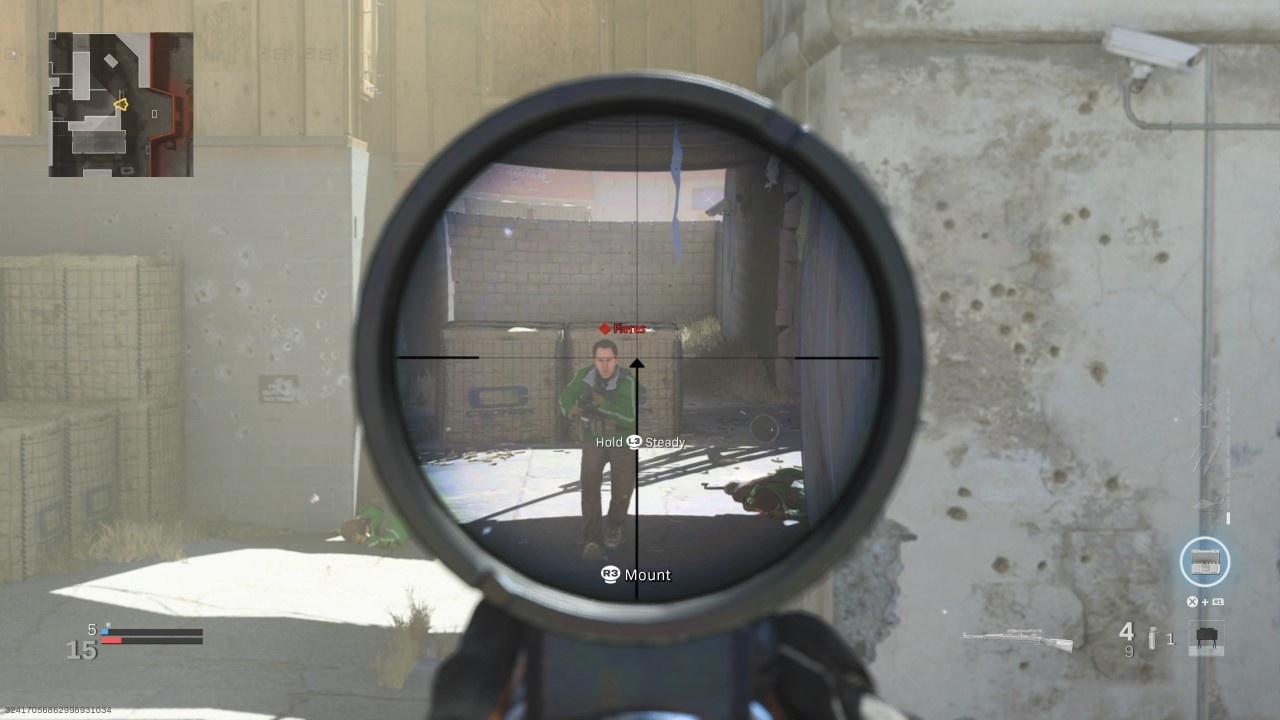head: (589, 337, 620, 381)
person: (555, 336, 646, 567)
